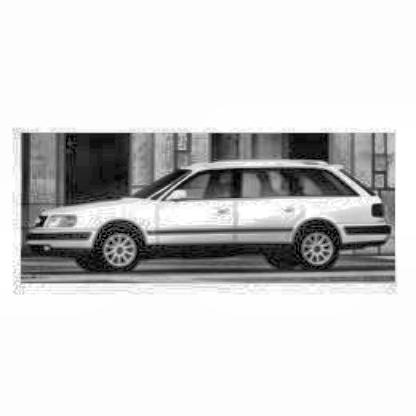Audi 100 Wagon 1994: (32, 161, 393, 276)
